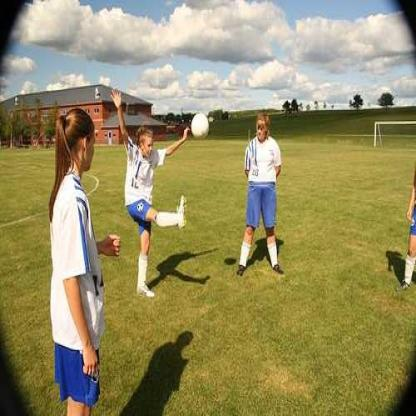ball: (191, 113, 210, 138)
